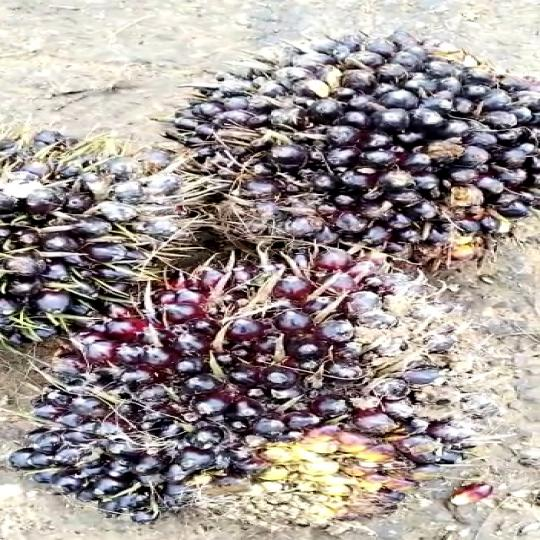mentah: (23, 249, 492, 529), (151, 34, 540, 285), (0, 118, 167, 358)
